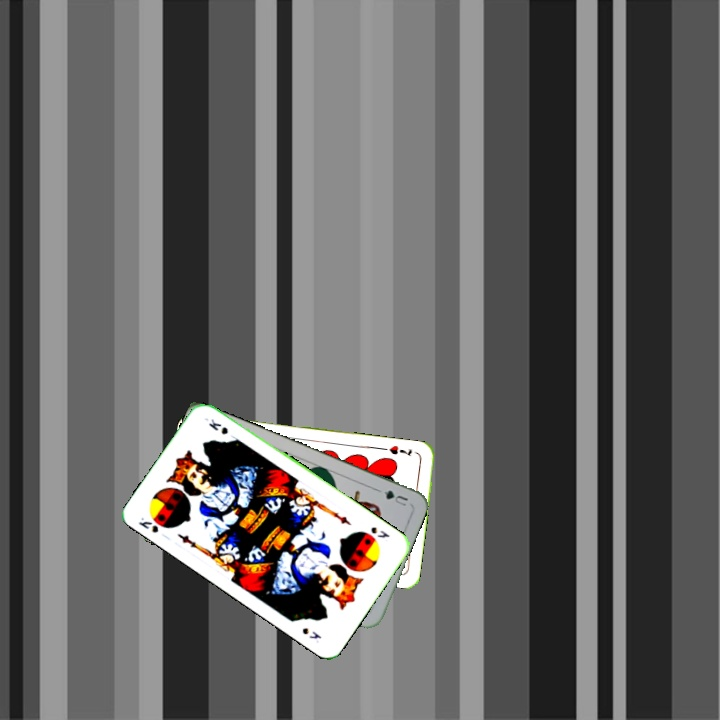GU: (374, 485, 411, 509)
H7: (385, 441, 415, 459)
SK: (134, 513, 171, 540), (367, 522, 393, 541)
